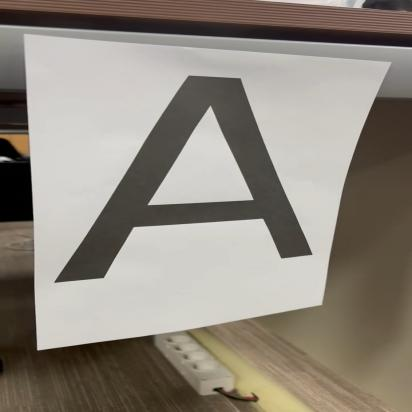seat: (41, 63, 312, 287)
